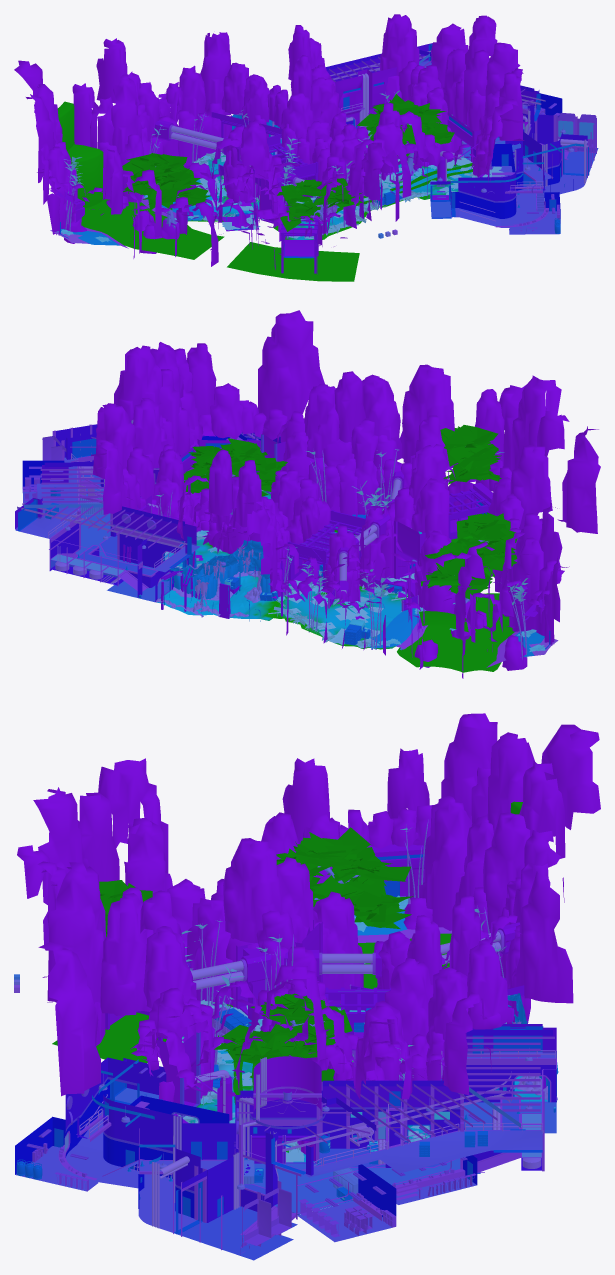
File: forest.gltf
3 renders of one model, top to bottom at view 1: azimuth 30°, elevation 25°; view 2: azimuth 150°, elevation 25°; view 3: azimuth 270°, elevation 25°, orthographic. The views are drawn at different scales.
Bounding box in the file's own units: 93.31 × 28.94 × 60.29.
